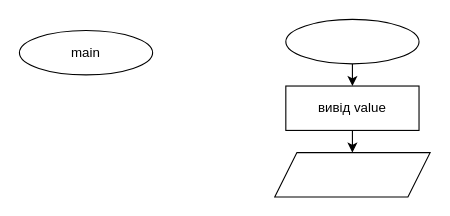
This 450x216 diagram has some shape labels left out. The shapes that lost their labels are listed below. From the top down, each one's box as (x1, y1, x2, y2) in pixels, then its label:
(285, 18, 419, 64): double input(char* value)
(274, 152, 430, 197): ввод n
